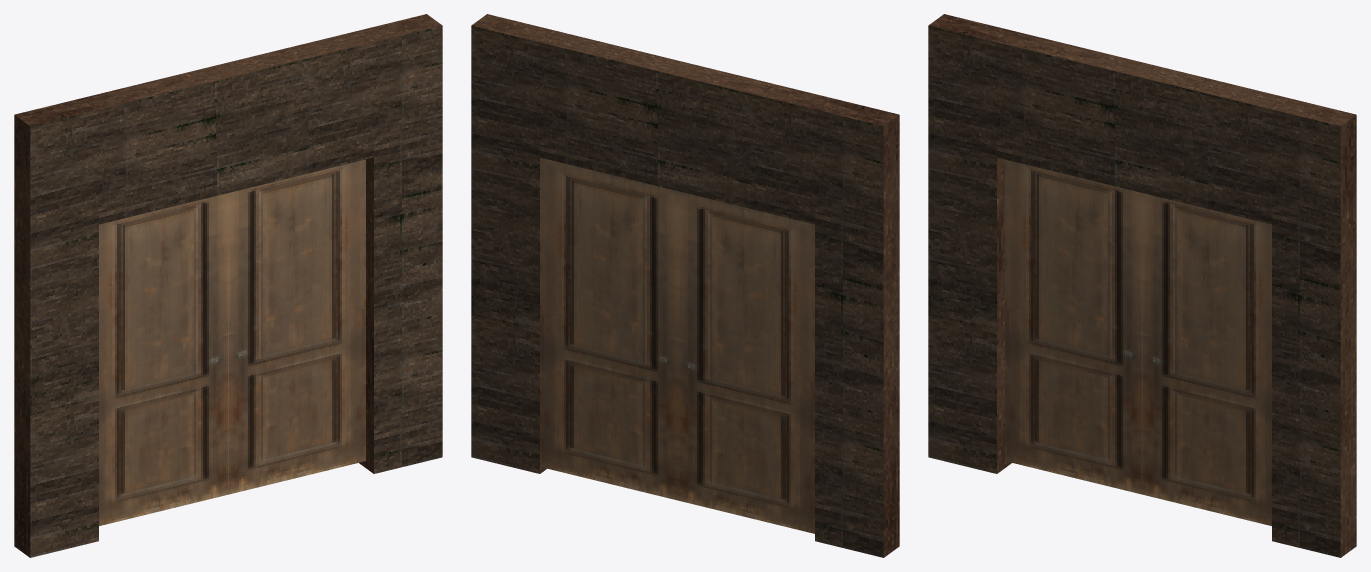
Rendered from door_double_06.glb.
3 renders of one model, left to right at view 1: azimuth 30°, elevation 25°; view 2: azimuth 150°, elevation 25°; view 3: azimuth 330°, elevation 25°, orthographic.
Parts seen in each view (by area): view 1: door_double_062, door_06_003, door_06_001; view 2: door_double_062, door_06_001, door_06_003; view 3: door_double_062, door_06_001, door_06_003.
Boxes of the visible parts, x1=… form: door_double_062: x1=14, y1=14, x2=442, y2=557; door_06_003: x1=228, y1=159, x2=365, y2=494; door_06_001: x1=99, y1=193, x2=228, y2=525; door_double_062: x1=471, y1=14, x2=899, y2=557; door_06_001: x1=677, y1=191, x2=814, y2=533; door_06_003: x1=540, y1=157, x2=677, y2=500; door_double_062: x1=928, y1=14, x2=1356, y2=557; door_06_001: x1=1005, y1=159, x2=1142, y2=494; door_06_003: x1=1142, y1=193, x2=1271, y2=525.
Size of the model in its own units: 3 by 3 by 0.2.
Materials: 3 (3 with a texture image).
